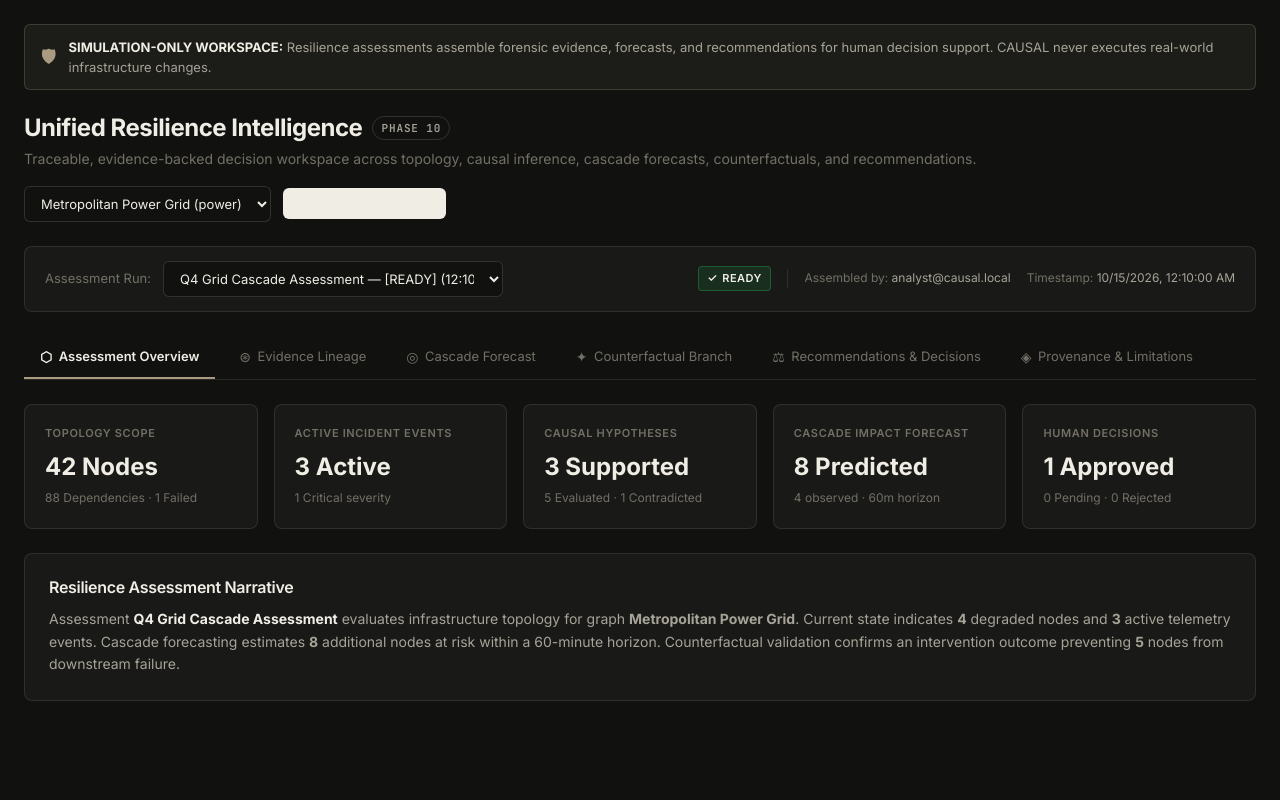
Test case: Unified Resilience Intelligence Workspace (/app/assessments) › switches to Evidence Lineage tab and renders causal hypotheses with completeness
This screenshot has width=1280, height=800.
Click the tab with test id "tab-evidence": (303, 357) [223,336,382,379]
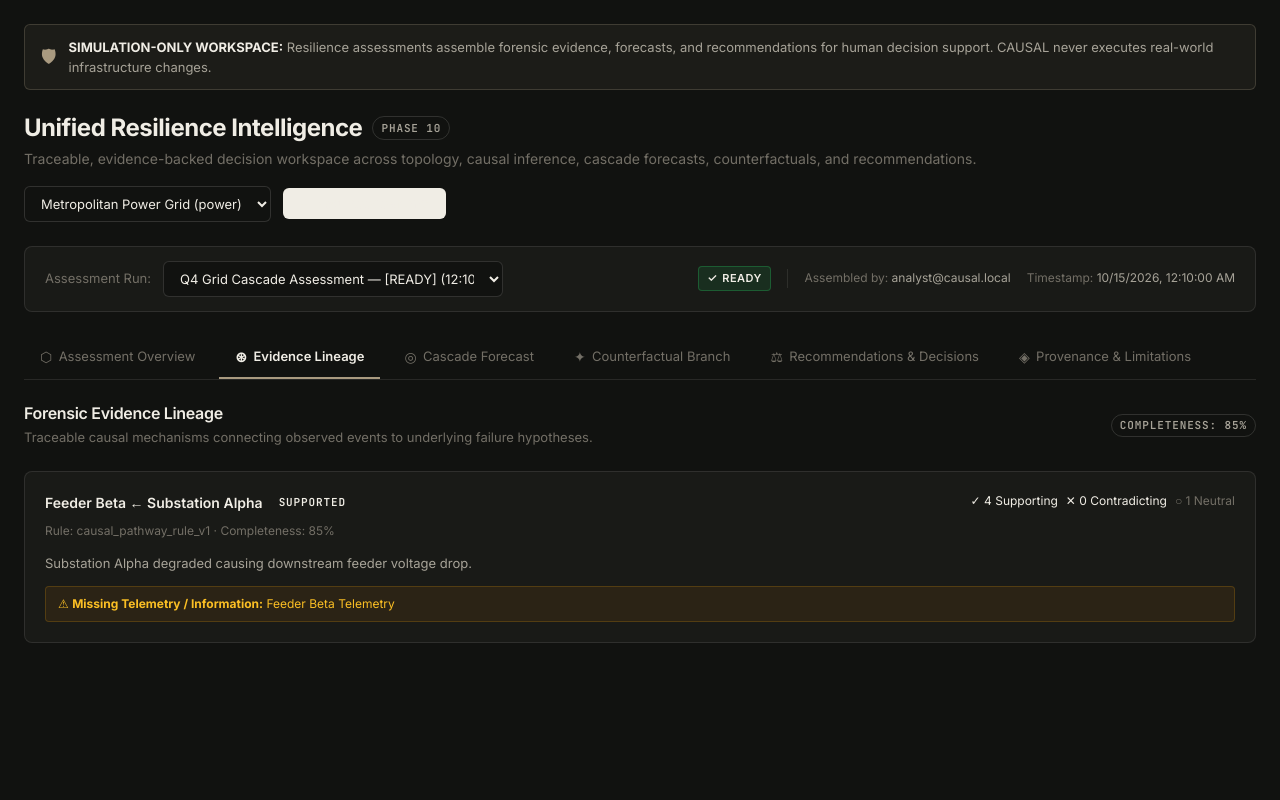
Result: the heading "Forensic Evidence Lineage" is shown at [24,403,223,423]
Result: the text "Feeder Beta ← Substation Alpha" is shown at [45,492,263,514]
Result: the text "SUPPORTED" is shown at [279,495,346,509]
